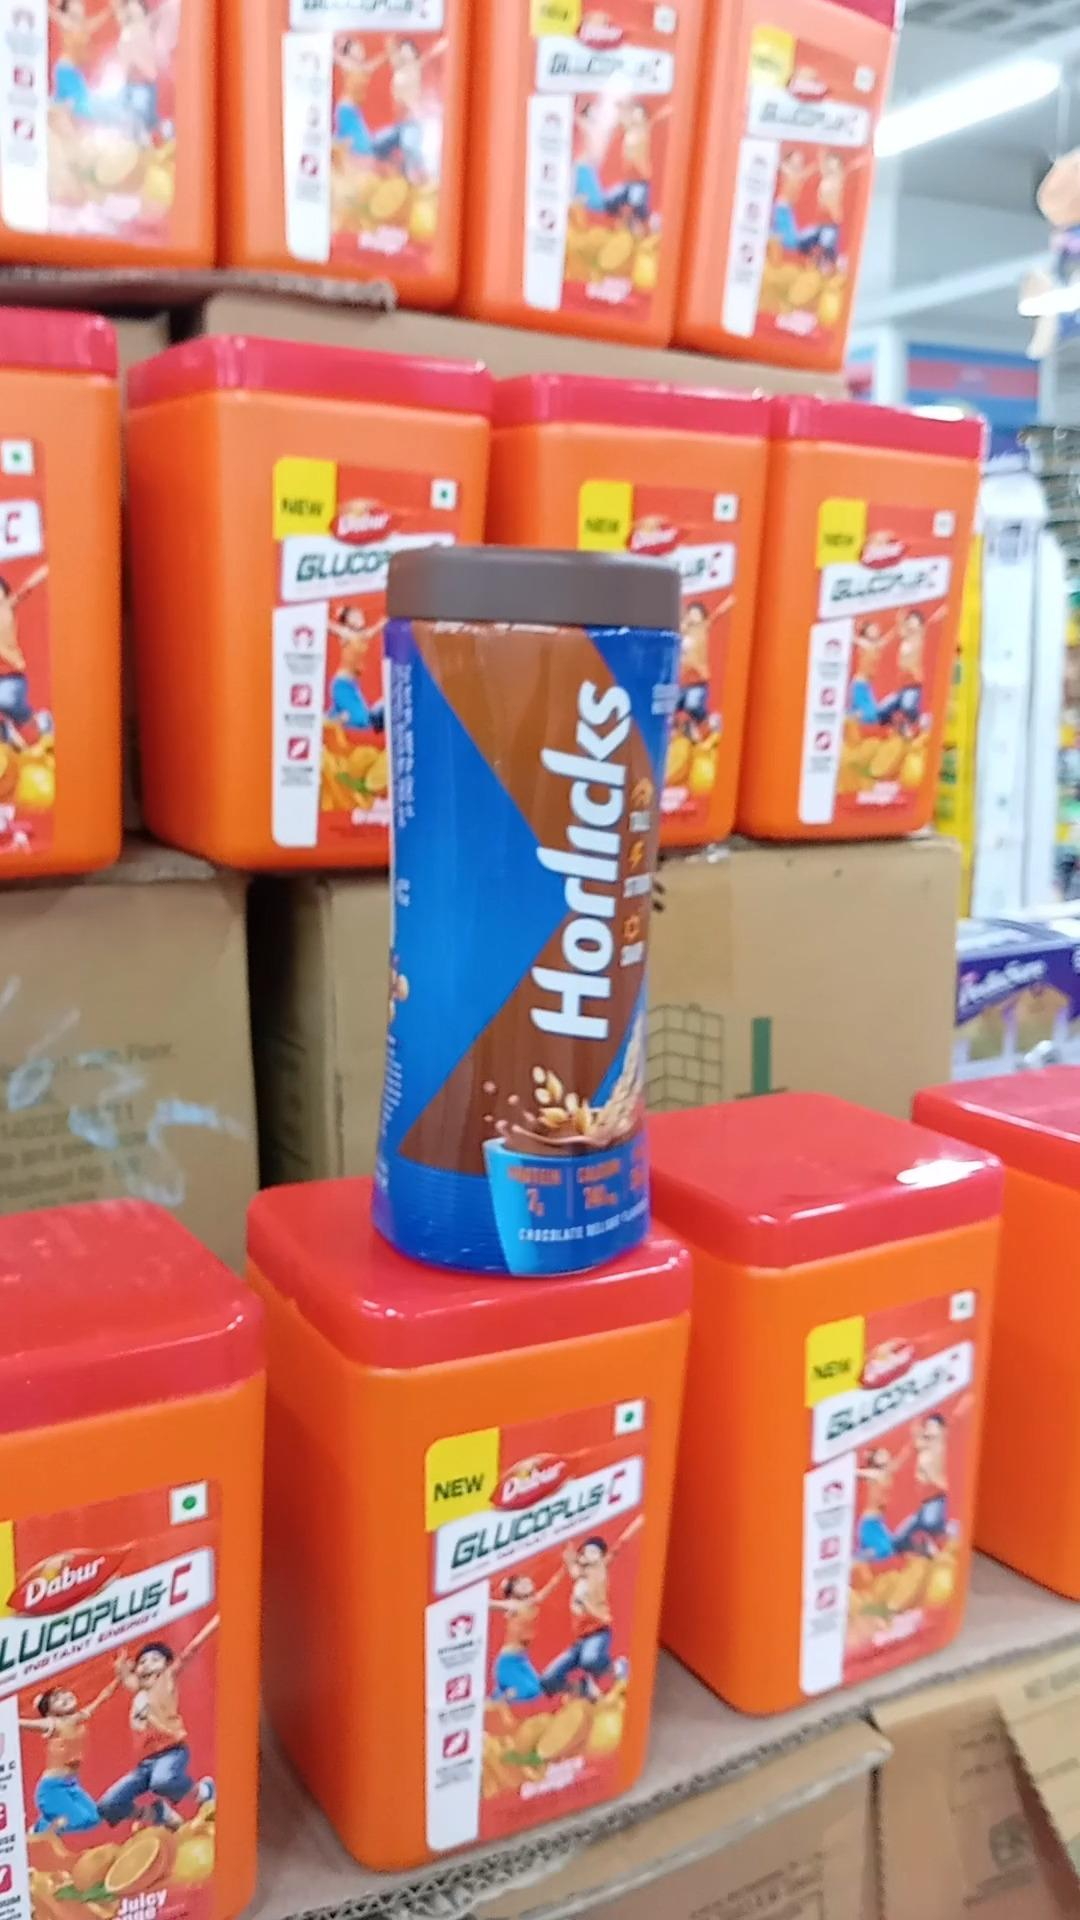HORLICK_CHOCOLATE_500_G_JAR: (384, 538, 662, 1270)
